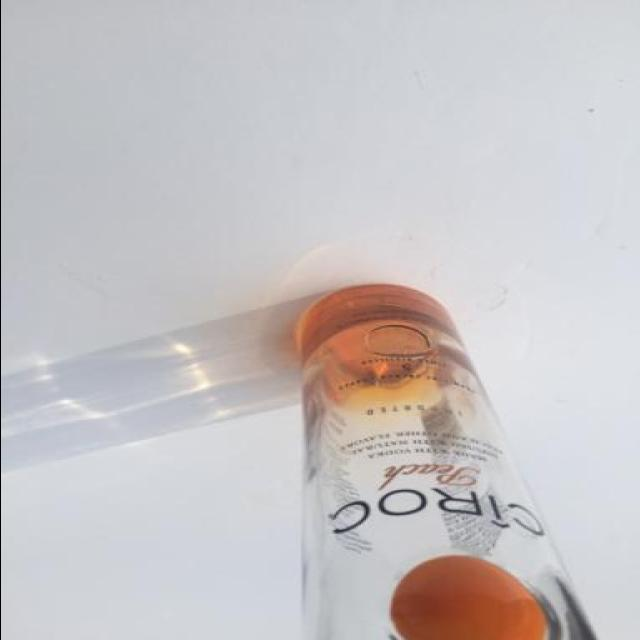glass: (290, 284, 599, 640)
